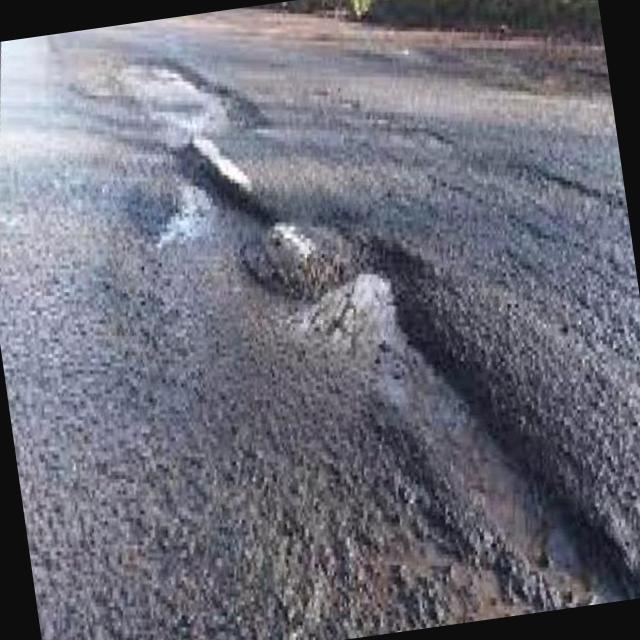Pathole: (287, 243, 640, 612), (113, 62, 237, 142), (155, 170, 233, 243), (258, 222, 304, 257)
